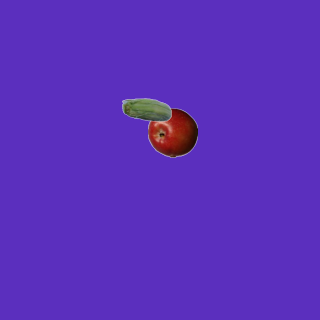Apple Braeburn: (147, 107, 197, 157)
Corn Husk: (121, 86, 171, 136)
